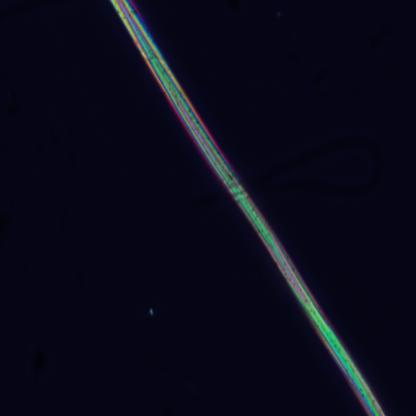Microfibre: (113, 0, 384, 415)
